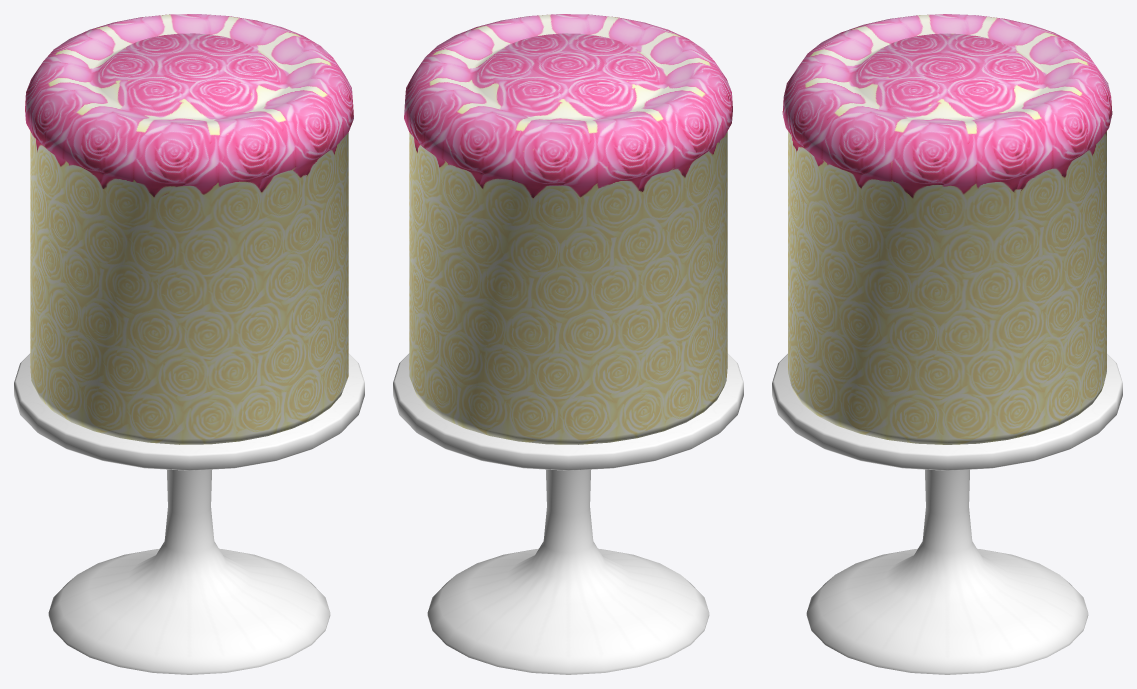
Rendered from BuffetCakes01_2.FBX.
The picture shows the model from 3 angles, left to right: view 1: azimuth 30°, elevation 25°; view 2: azimuth 150°, elevation 25°; view 3: azimuth 270°, elevation 25°; orthographic projection.
Visible parts, largest first — view 1: BuffetCakes01_2; view 2: BuffetCakes01_2; view 3: BuffetCakes01_2.
Part boxes in pixels (x1,y1,x2,y2): BuffetCakes01_2: (14,14,364,674); BuffetCakes01_2: (393,14,743,674); BuffetCakes01_2: (772,14,1122,674).
Size of what is drawn, in the model's own units: 0.3515 by 0.607 by 0.3515.
